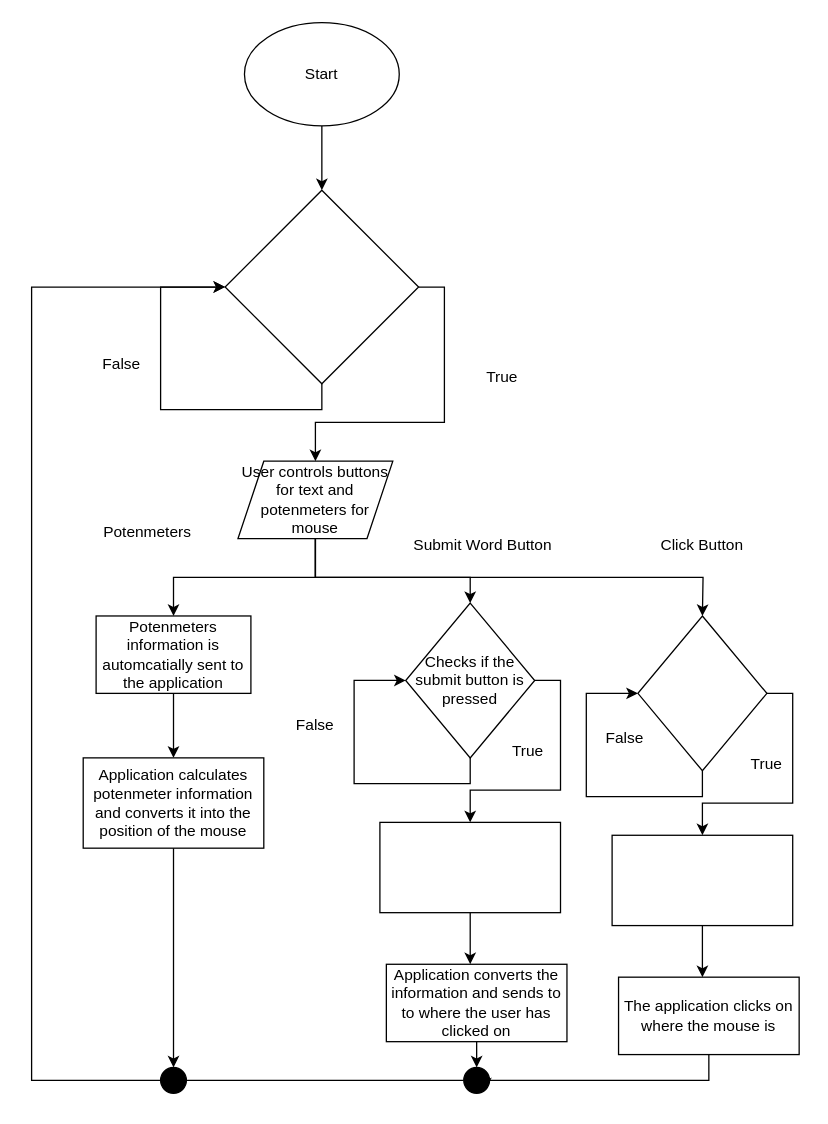
The diagram is 828 pixels wide and 1124 high, and some of its shapes have lost their labels. The shapes that lost their labels are listed below. From the top down, each one's box as (x1, y1, x2, y2) in pixels, then its label:
(224, 189, 419, 384): Checks for a connection between the device and the application
(637, 615, 767, 771): Checks if the user presses on the click button
(379, 821, 561, 913): Text information is sent to the application
(611, 834, 793, 926): Information of the click is sent to the application
